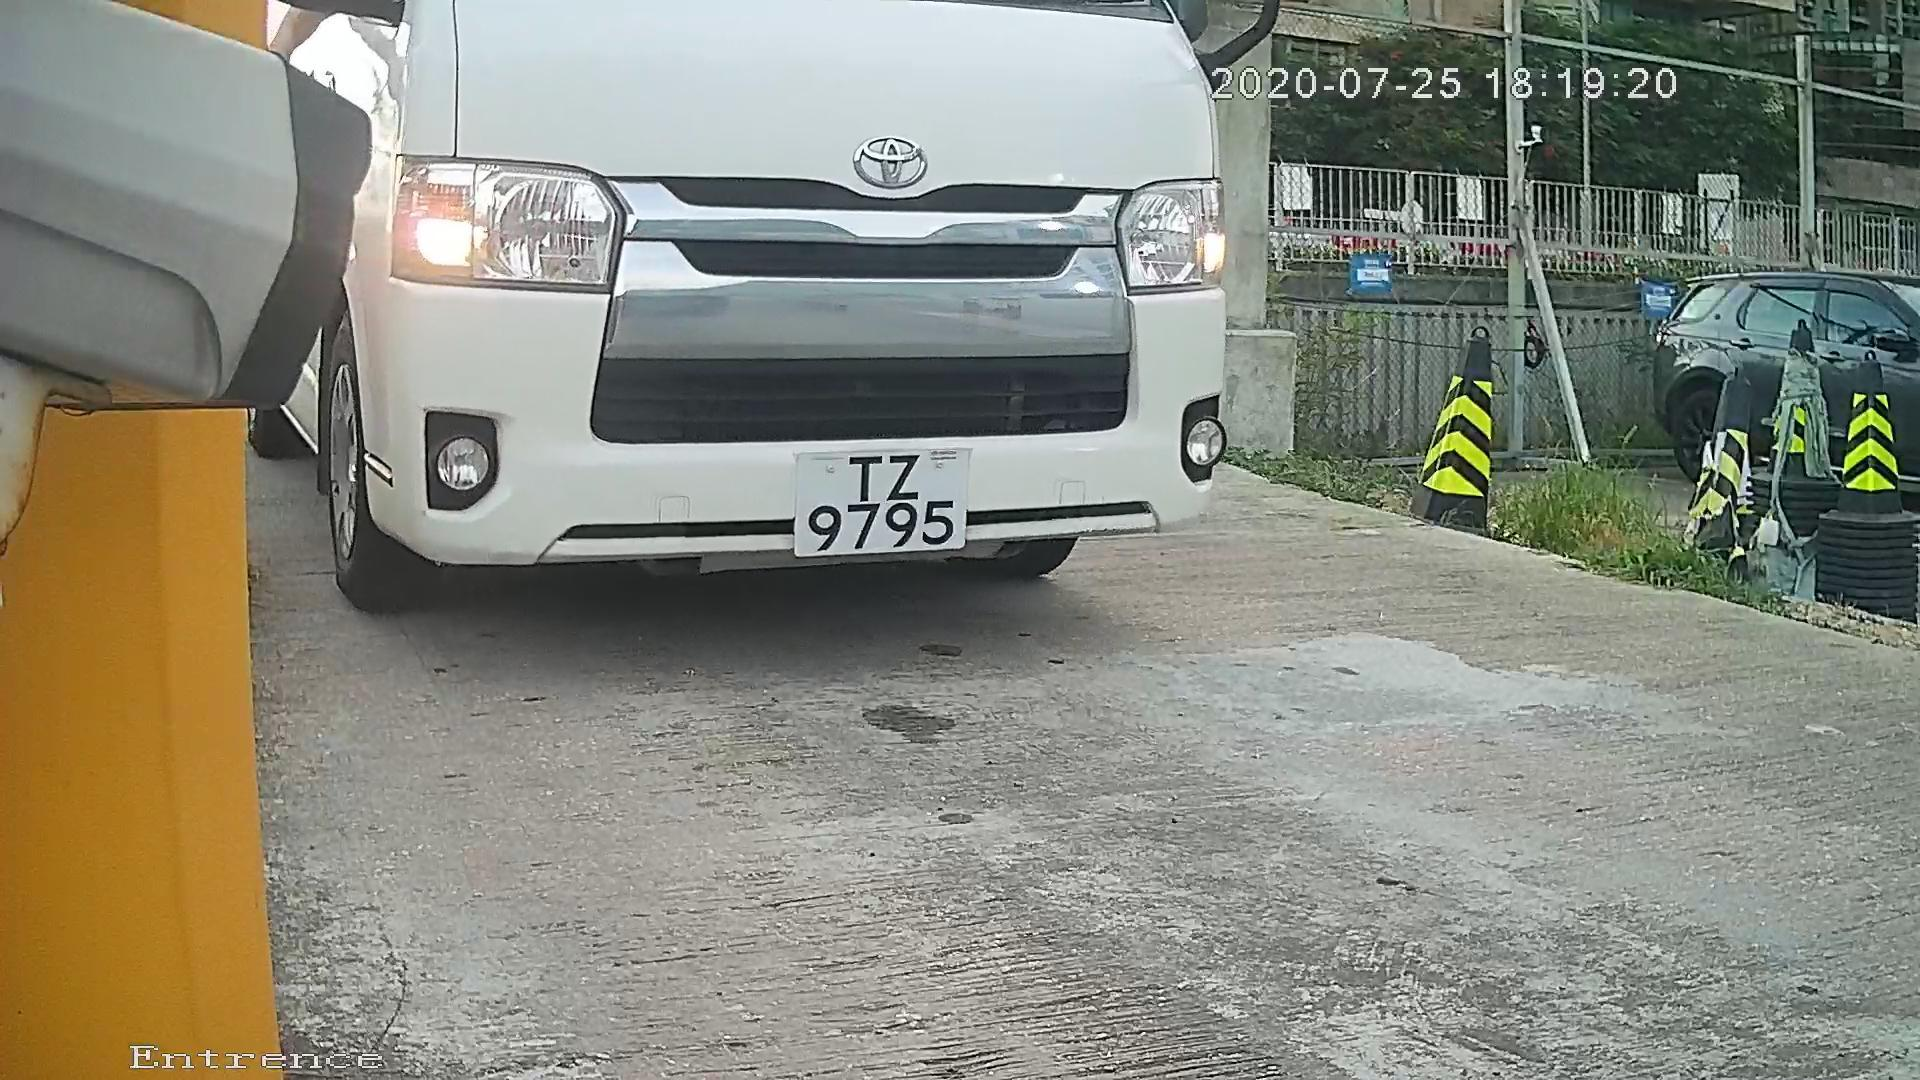privatecar: (284, 11, 1406, 632)
